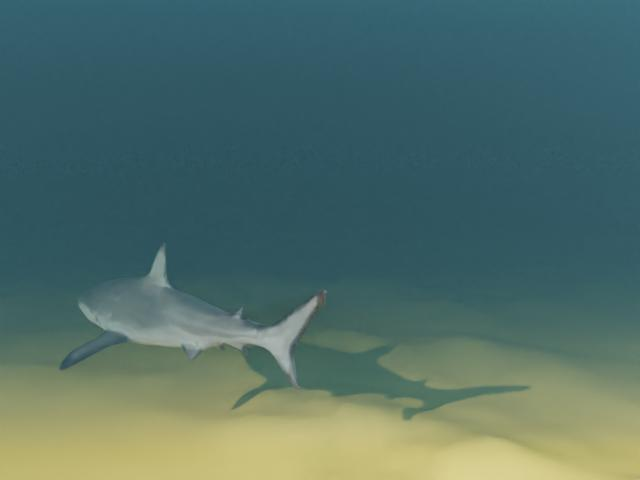Carribean Shark.001: (59, 242, 326, 389)
